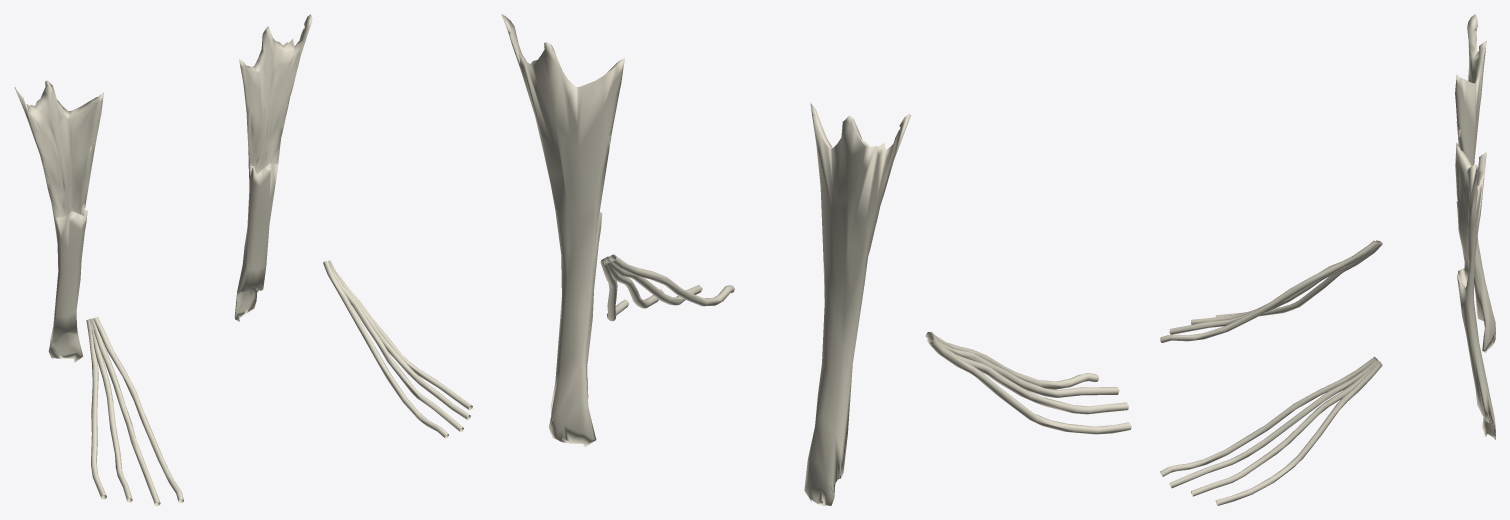
The model's file is tendons-lower-limb-mobile.glb.
3 renders of one model, left to right at view 1: azimuth 30°, elevation 25°; view 2: azimuth 150°, elevation 25°; view 3: azimuth 270°, elevation 25°, orthographic. The views are drawn at different scales.
Parts seen in each view (by area): view 1: za.calcaneal-tendon-r, za.calcaneal-tendon-l, za.tendon-of-extensor-digitorum-longus-r, za.tendon-of-extensor-digitorum-longus-l; view 2: za.calcaneal-tendon-l, za.calcaneal-tendon-r, za.tendon-of-extensor-digitorum-longus-r, za.tendon-of-extensor-digitorum-longus-l; view 3: za.tendon-of-extensor-digitorum-longus-l, za.calcaneal-tendon-l, za.calcaneal-tendon-r, za.tendon-of-extensor-digitorum-longus-r.
Part boxes in pixels (x1,y1,x2,y2): za.calcaneal-tendon-r: [14, 80, 103, 362]; za.calcaneal-tendon-l: [234, 14, 312, 321]; za.tendon-of-extensor-digitorum-longus-r: [86, 317, 183, 505]; za.tendon-of-extensor-digitorum-longus-l: [323, 260, 472, 438]; za.calcaneal-tendon-l: [501, 14, 624, 446]; za.calcaneal-tendon-r: [804, 103, 910, 505]; za.tendon-of-extensor-digitorum-longus-r: [925, 331, 1131, 434]; za.tendon-of-extensor-digitorum-longus-l: [600, 254, 734, 321]; za.tendon-of-extensor-digitorum-longus-l: [1160, 357, 1382, 505]; za.calcaneal-tendon-l: [1455, 143, 1495, 439]; za.calcaneal-tendon-r: [1455, 14, 1495, 353]; za.tendon-of-extensor-digitorum-longus-r: [1160, 240, 1382, 342].
Size of the model in its own units: 0.2883 by 0.2325 by 0.2181.
